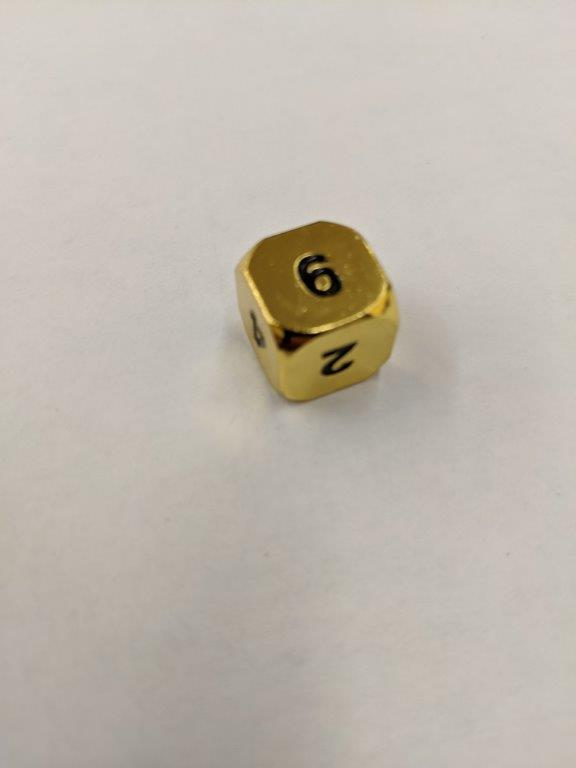d6-6: (233, 220, 397, 408)
